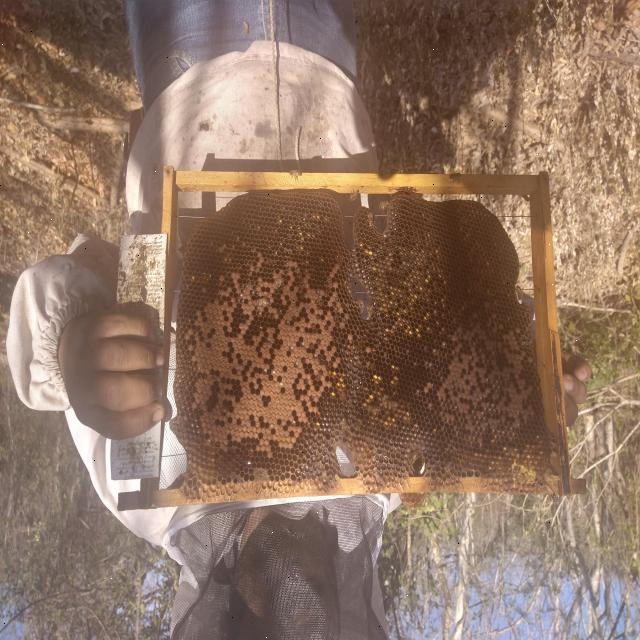cria: (183, 249, 353, 458), (435, 300, 535, 444)
marco: (161, 193, 540, 482)
